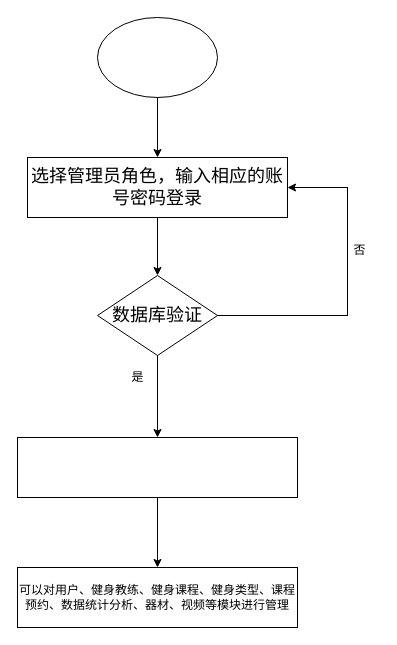
This 397x645 diagram has some shape labels left out. The box of each missing label's shape, as (x1, y1, x2, y2) in pixels:
开始: (96, 16, 218, 98)
管理员进入系统后台管理界面: (16, 436, 298, 498)
